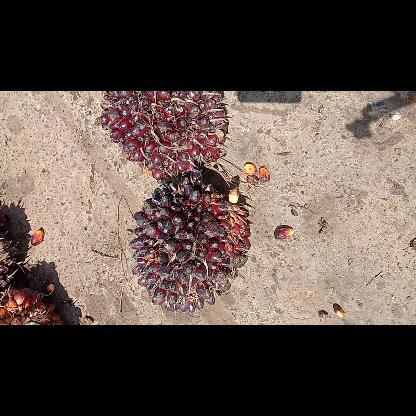Kurang masak: (127, 169, 250, 315), (98, 91, 232, 183)
